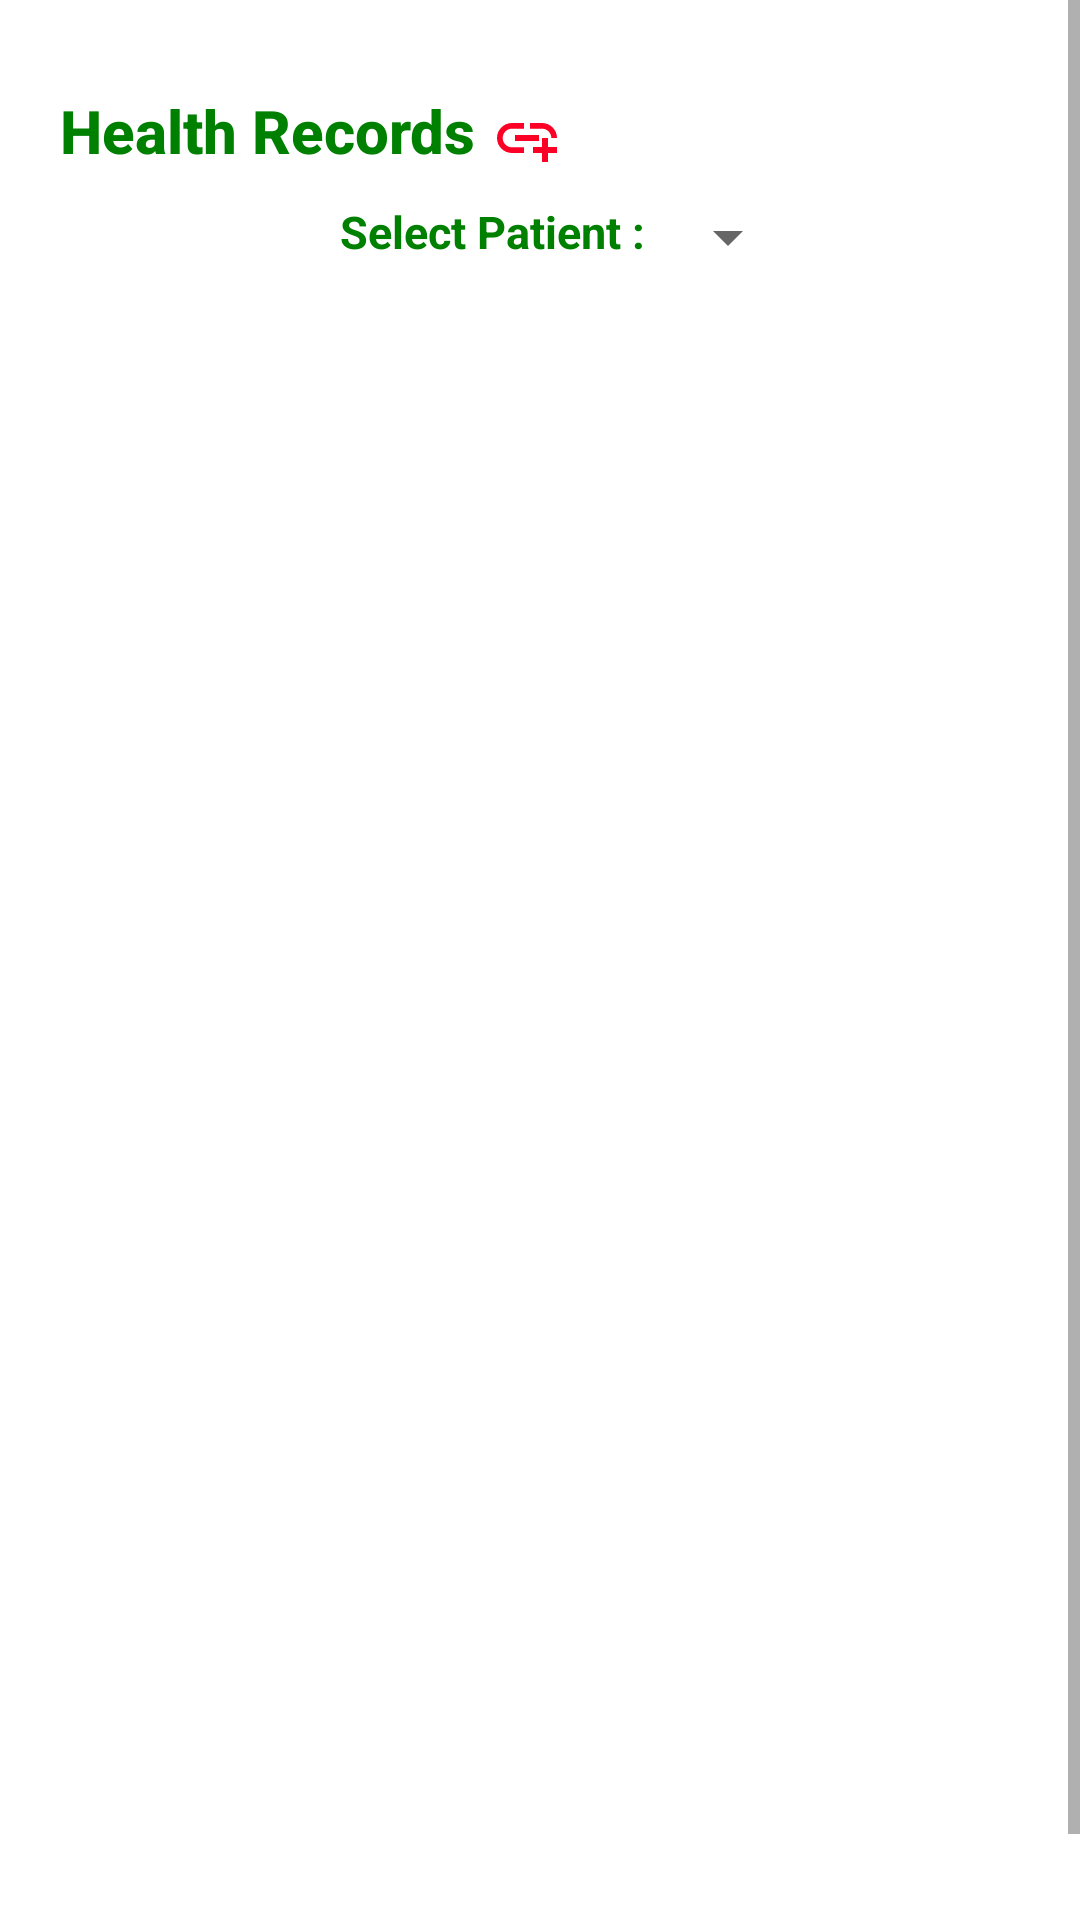

Screen size 1080 × 1920. Icon name, then its center in pixels as (x=x, y=y):
add link: (x=527, y=142)
